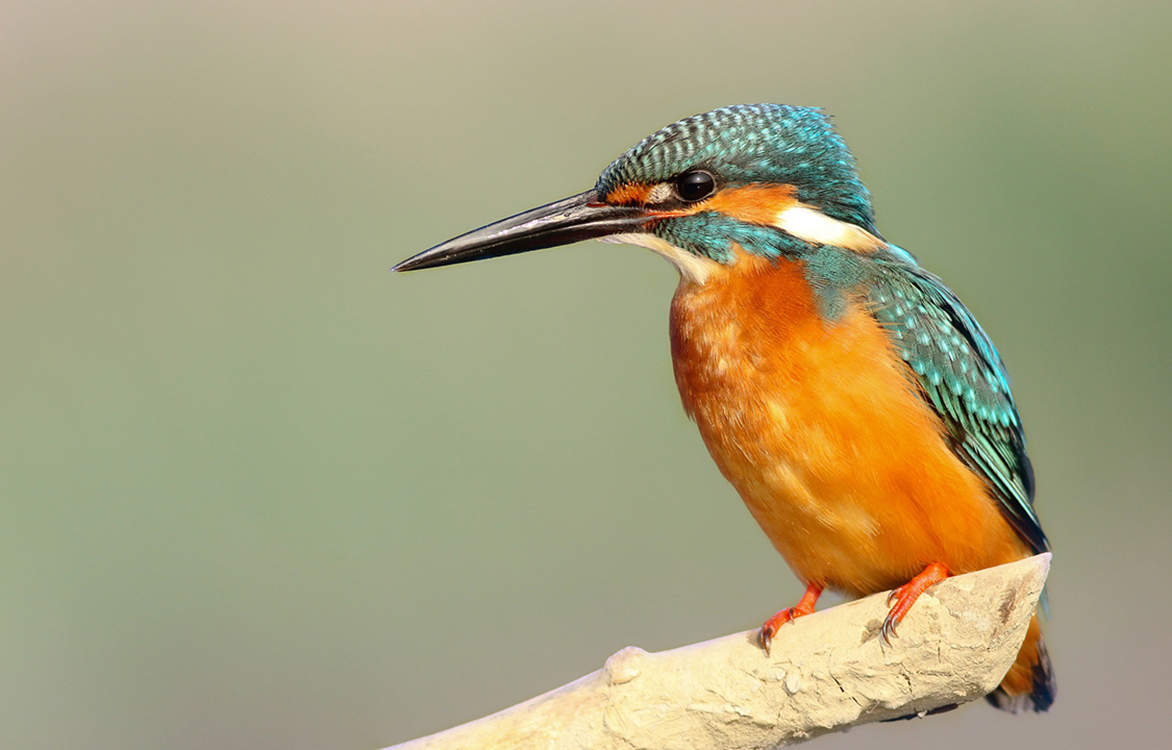bird: (369, 82, 1109, 750)
